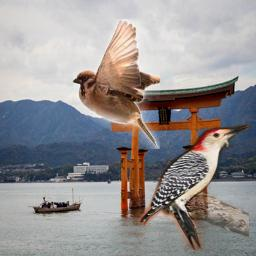Sparrow: (73, 19, 160, 149)
Woodpecker: (138, 124, 249, 251)
